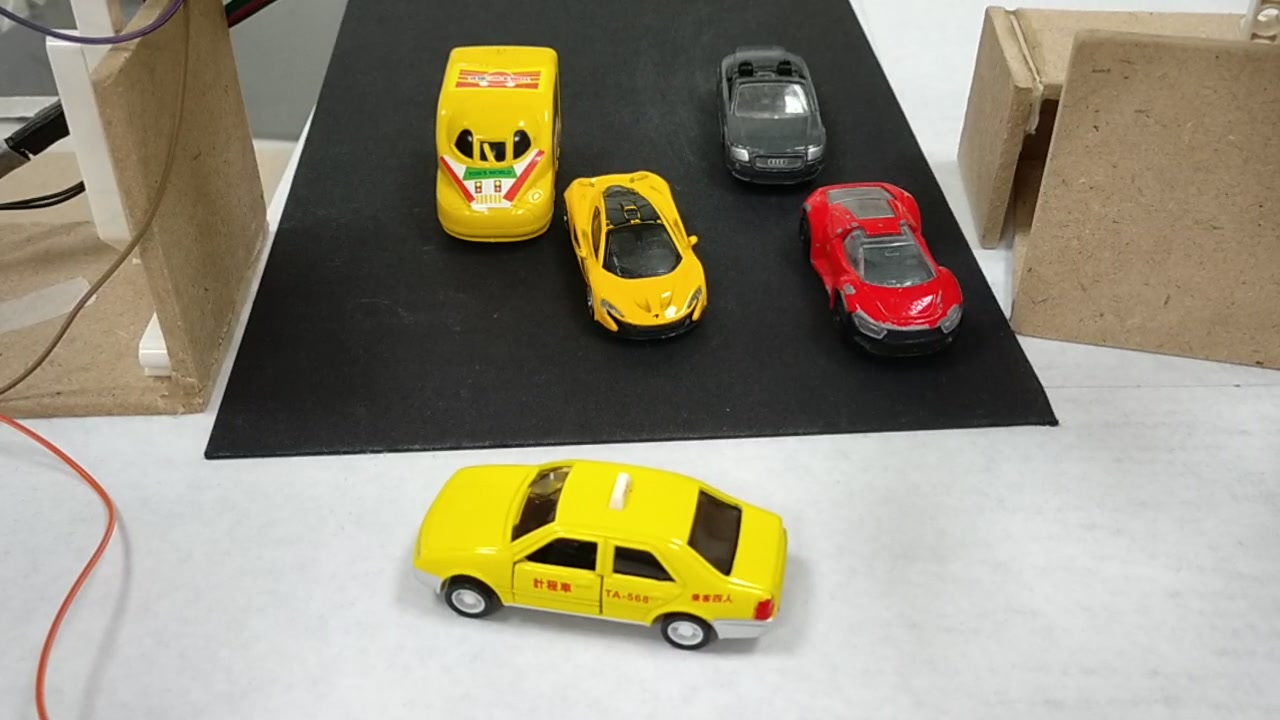car: (423, 462, 790, 654), (806, 186, 967, 352), (567, 173, 706, 341), (722, 52, 826, 182)
